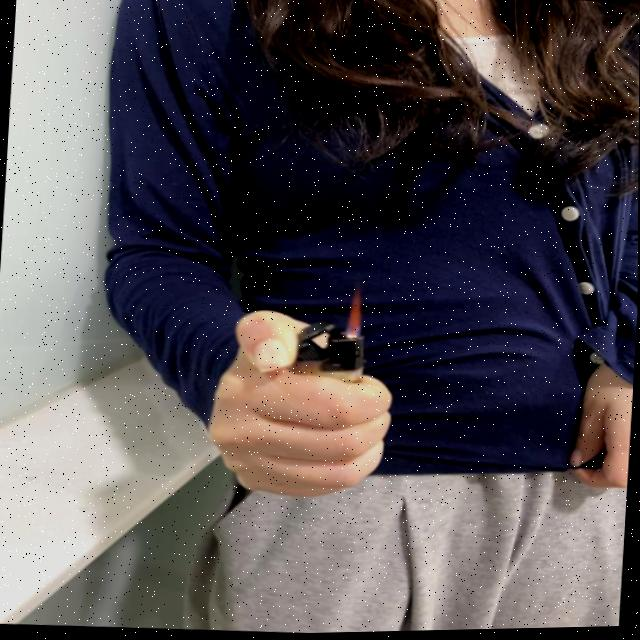Fire: (347, 283, 368, 340)
